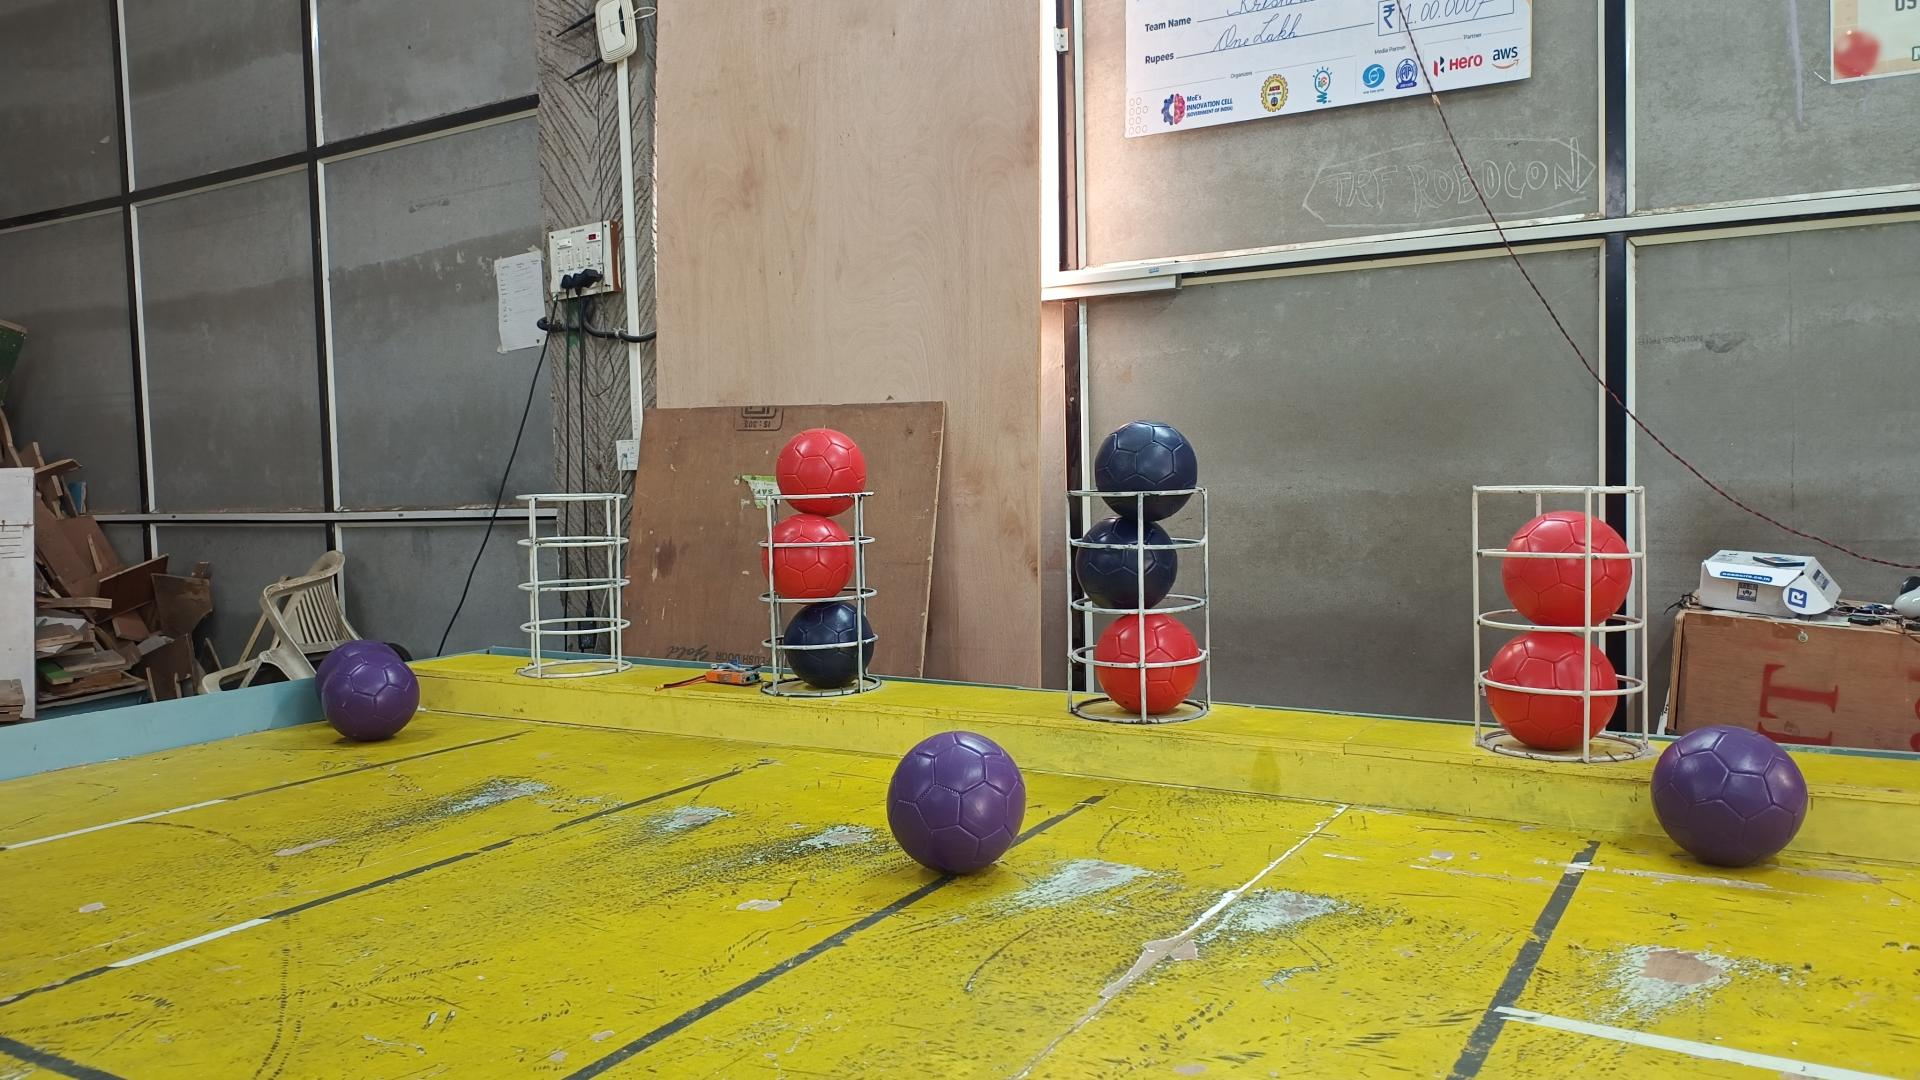dhoka: (1096, 422, 1196, 522), (1071, 517, 1176, 608), (783, 599, 873, 688)
laale: (1484, 628, 1619, 748), (1502, 512, 1636, 628), (1096, 611, 1200, 712), (775, 429, 866, 518), (762, 514, 856, 601)
